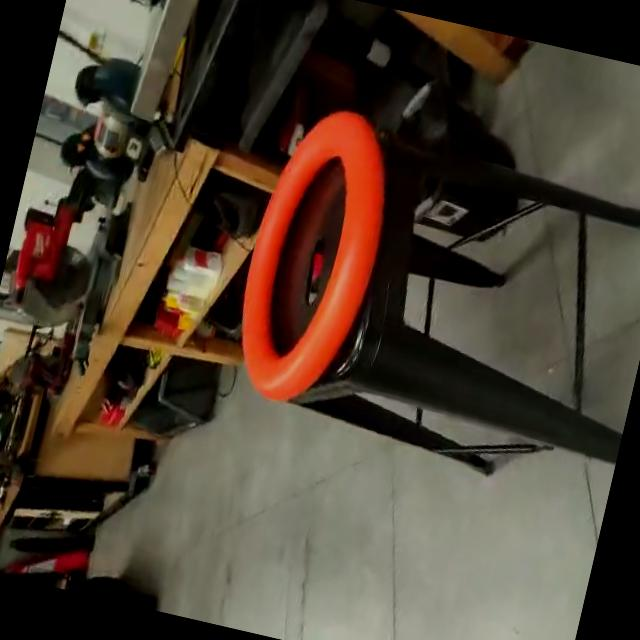note: (216, 90, 420, 420)
